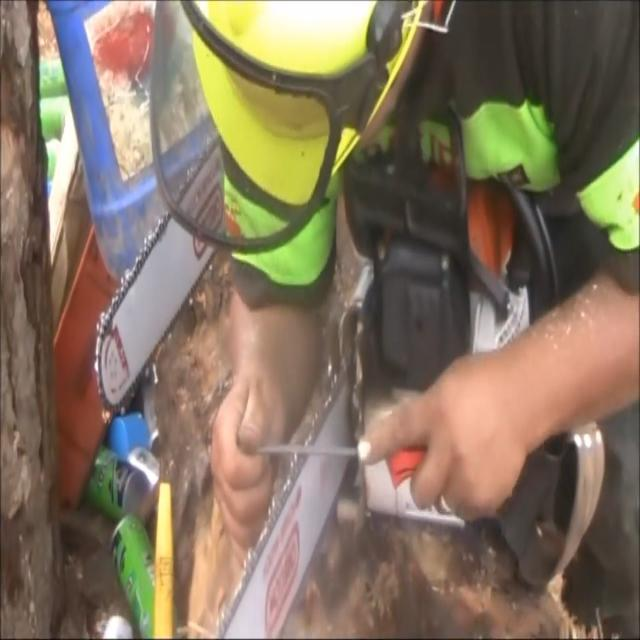Chainsaw: (197, 130, 576, 640), (92, 71, 238, 418)
